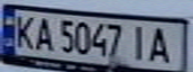0: (72, 19, 93, 56)
4: (90, 20, 109, 56)
5: (54, 17, 75, 54)
7: (106, 20, 130, 58)
A: (145, 25, 175, 65), (30, 15, 57, 52)
I: (127, 23, 151, 62)
K: (9, 12, 39, 51)
